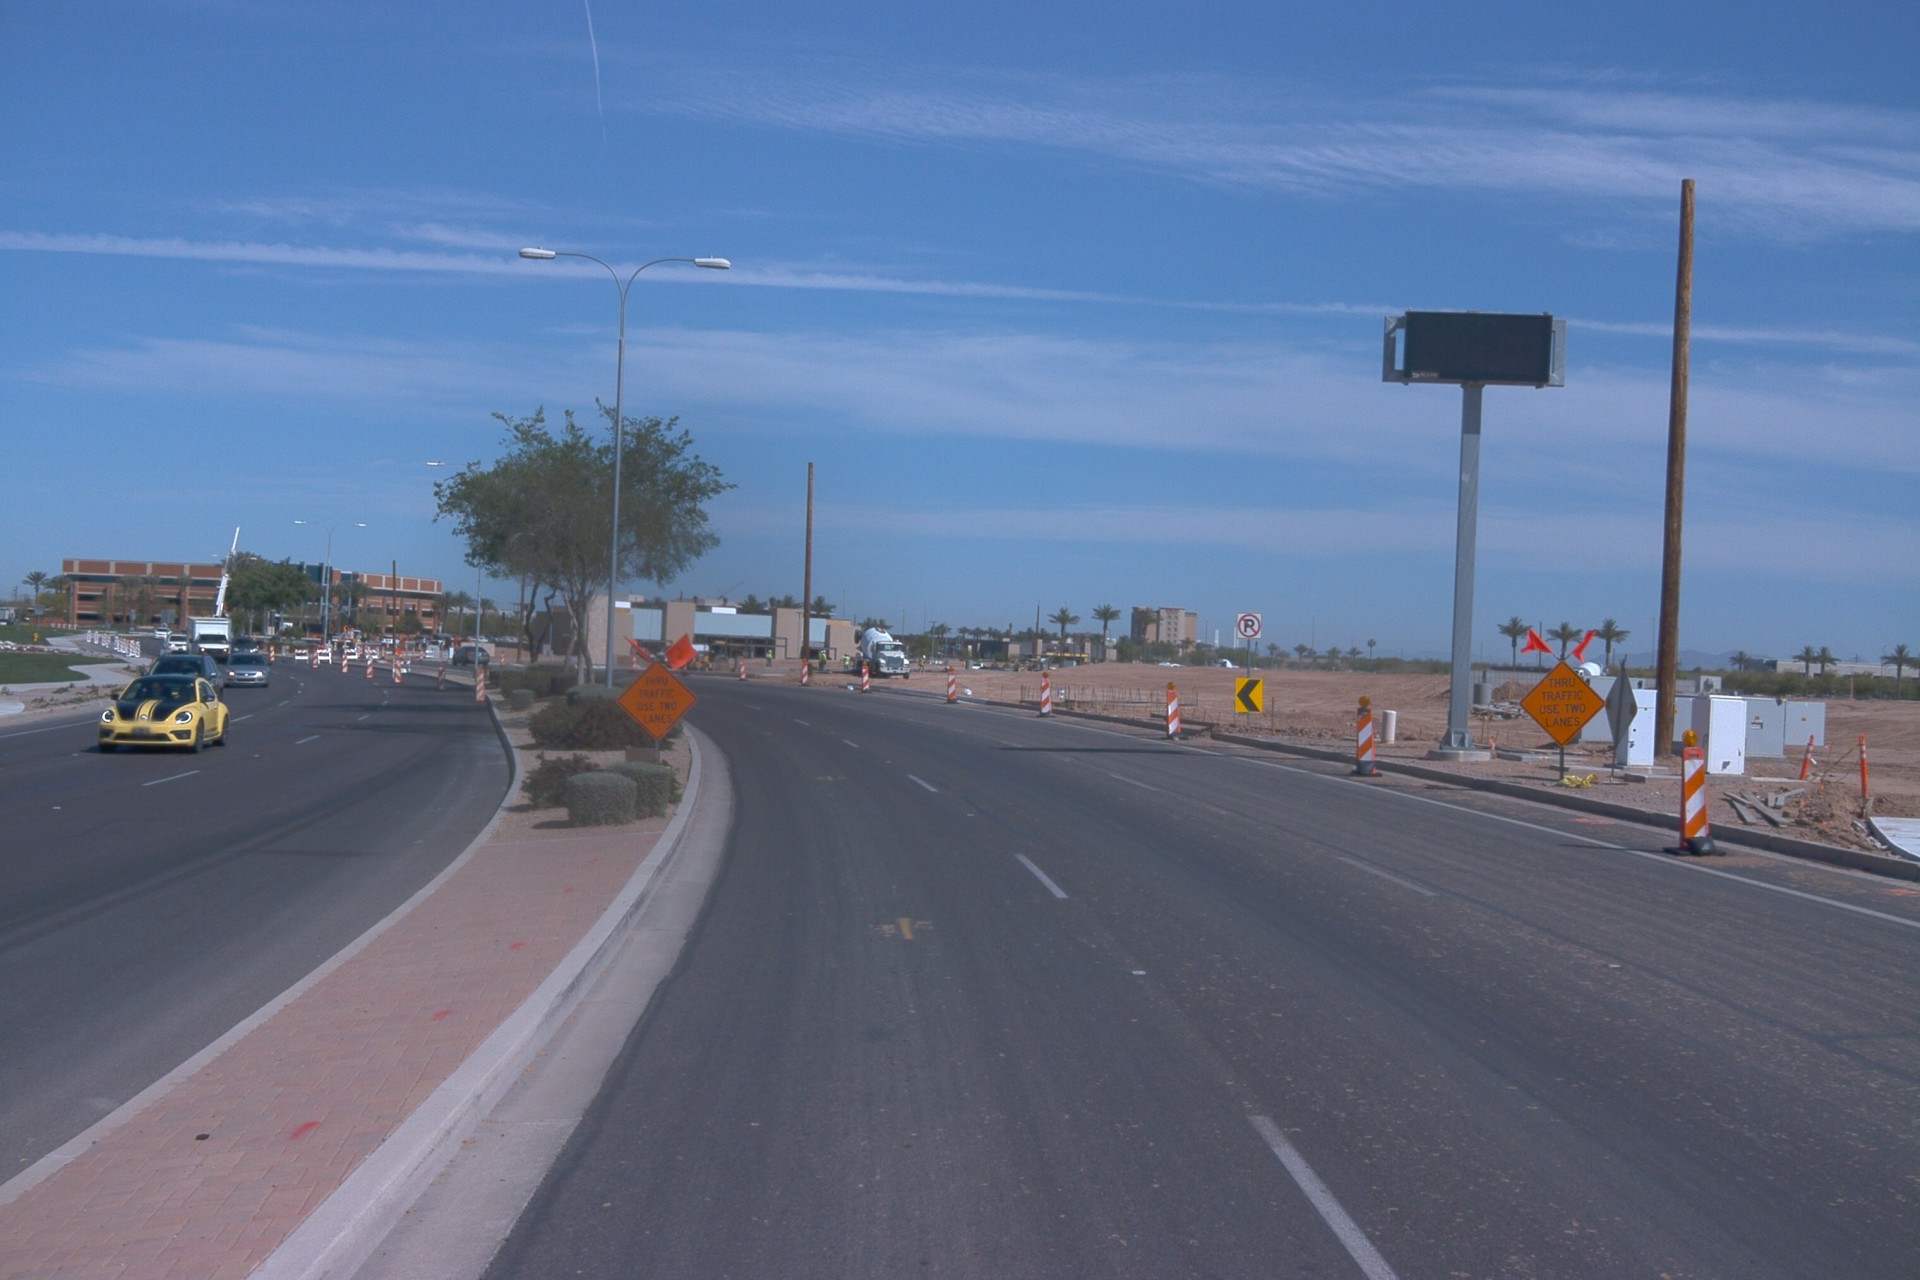TYPE_PEDESTRIAN: (841, 652, 852, 675), (819, 649, 828, 672), (764, 649, 773, 668), (818, 650, 825, 672), (919, 656, 926, 673)
TYPE_VEHICLE: (98, 675, 233, 753), (180, 523, 246, 669), (145, 650, 222, 701), (185, 617, 235, 666), (222, 653, 272, 692), (658, 645, 710, 664), (450, 645, 492, 666), (1570, 658, 1607, 680), (1013, 655, 1054, 674), (159, 631, 187, 657), (229, 635, 259, 653), (1156, 660, 1187, 670), (155, 626, 176, 640), (646, 647, 660, 662), (971, 662, 987, 672), (853, 651, 866, 663), (470, 635, 489, 643), (785, 657, 799, 661), (823, 656, 834, 661)
